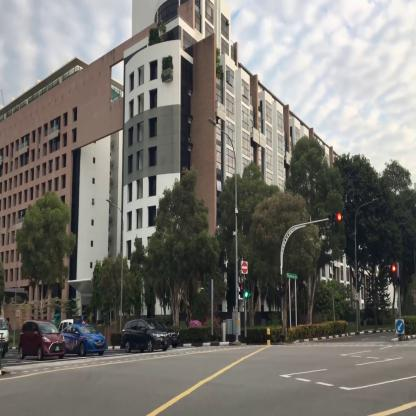red_traffic_light: (328, 212, 342, 220), (392, 263, 396, 284)
